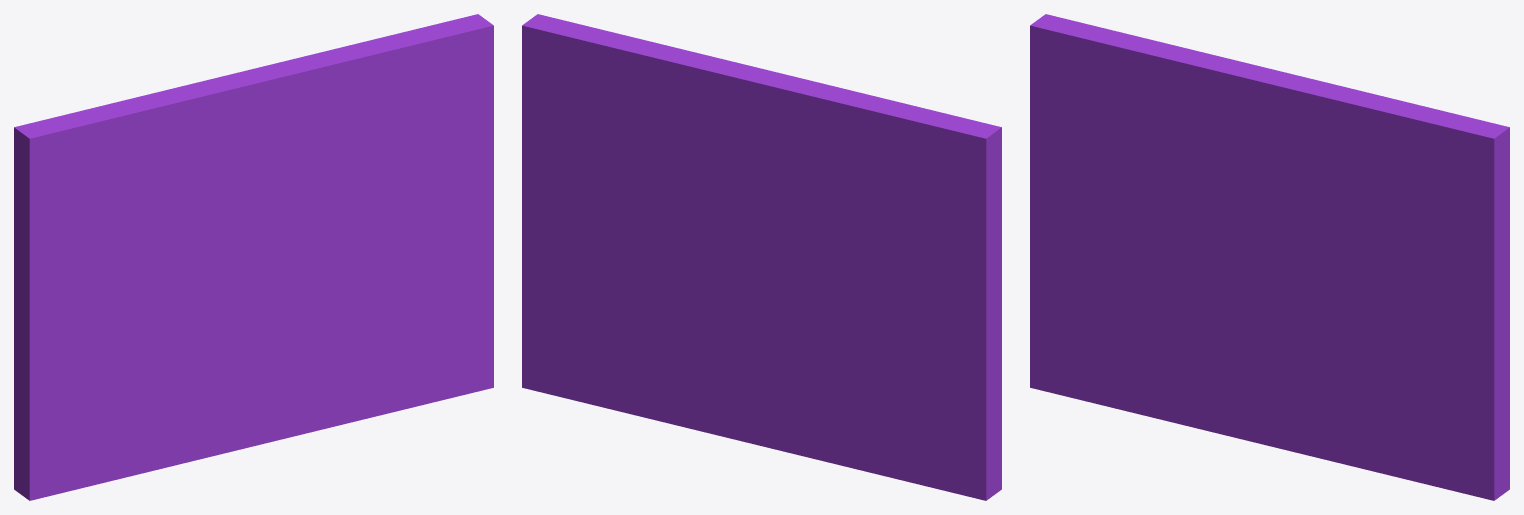
Rendered from Barrier_23_chunks.fbx.
The picture shows the model from 3 angles, left to right: view 1: azimuth 30°, elevation 25°; view 2: azimuth 150°, elevation 25°; view 3: azimuth 330°, elevation 25°; orthographic projection.
Visible parts, largest first — view 1: Barrier_23_0, Barrier_23_2, Barrier_23_1, Barrier_23_6, Barrier_23_3, Barrier_23_5, Barrier_23_4; view 2: Barrier_23_2, Barrier_23_0, Barrier_23_1, Barrier_23_3, Barrier_23_4, Barrier_23_6, Barrier_23_5; view 3: Barrier_23_2, Barrier_23_0, Barrier_23_1, Barrier_23_6, Barrier_23_3, Barrier_23_5, Barrier_23_4.
Boxes of the visible parts, <box> form: Barrier_23_0: <box>14,106,267,485</box>; Barrier_23_2: <box>255,75,493,434</box>; Barrier_23_1: <box>14,293,301,500</box>; Barrier_23_6: <box>301,14,493,156</box>; Barrier_23_3: <box>100,55,315,212</box>; Barrier_23_5: <box>237,149,375,247</box>; Barrier_23_4: <box>367,14,478,164</box>; Barrier_23_2: <box>522,97,738,427</box>; Barrier_23_0: <box>777,99,1001,473</box>; Barrier_23_1: <box>685,259,1001,500</box>; Barrier_23_3: <box>682,61,900,240</box>; Barrier_23_4: <box>522,25,694,196</box>; Barrier_23_6: <box>523,14,729,119</box>; Barrier_23_5: <box>652,162,792,262</box>; Barrier_23_2: <box>1255,188,1509,500</box>; Barrier_23_0: <box>1030,14,1267,372</box>; Barrier_23_1: <box>1030,289,1301,453</box>; Barrier_23_6: <box>1301,85,1508,207</box>; Barrier_23_3: <box>1131,35,1338,200</box>; Barrier_23_5: <box>1237,175,1376,250</box>; Barrier_23_4: <box>1367,125,1509,220</box>.
Size of the model in its own units: 381 by 284 by 22.39.
